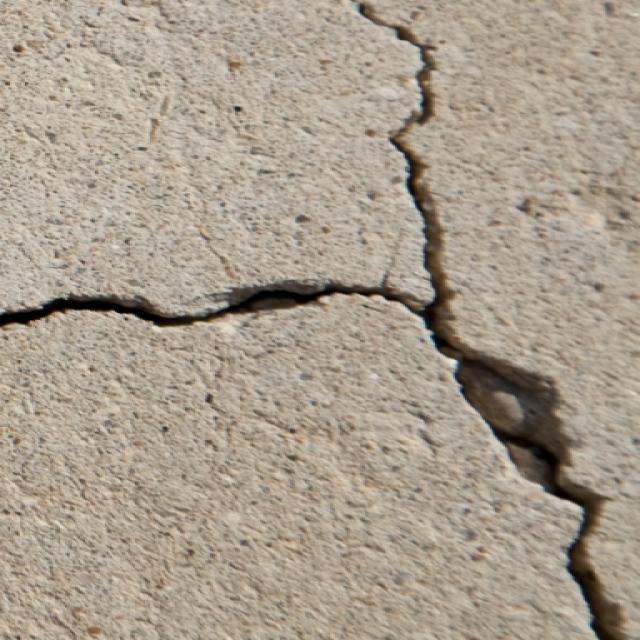crack: (342, 1, 465, 332), (3, 276, 340, 335), (562, 538, 629, 639)
spall: (425, 333, 610, 538)
